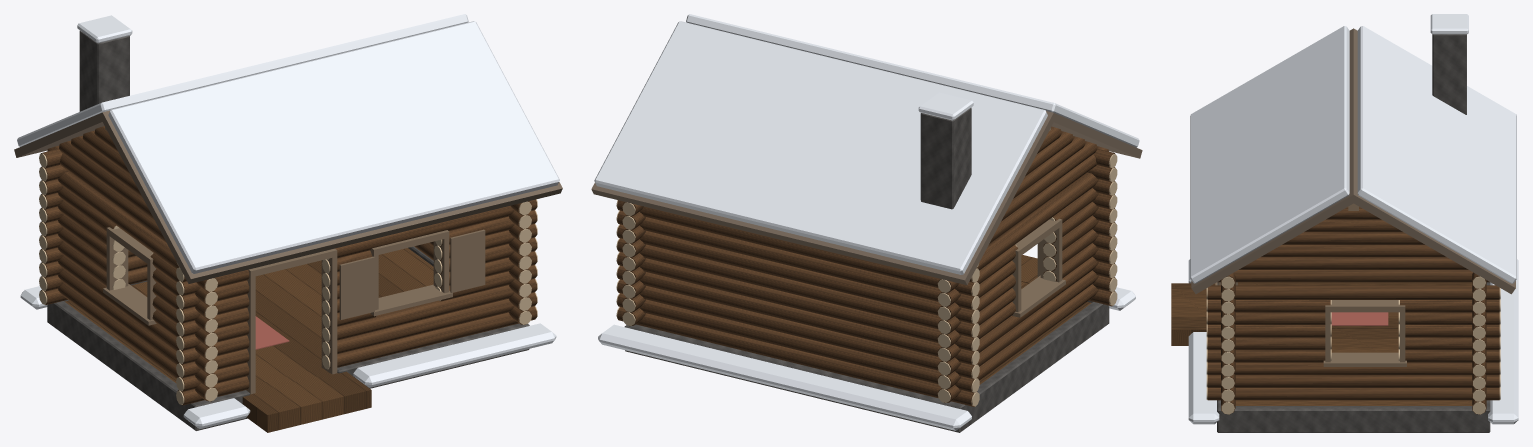
Rendered from cabin.glb.
The picture shows the model from 3 angles, left to right: view 1: azimuth 30°, elevation 25°; view 2: azimuth 150°, elevation 25°; view 3: azimuth 270°, elevation 25°; orthographic projection. The views are drawn at different scales.
Visible parts, largest first — view 1: snow, logs, floor, trim, stone, ends, roof; view 2: snow, logs, stone, roof, ends, trim, floor; view 3: snow, logs, stone, floor, roof, ends, trim.
Part boxes in pixels (left/top/right/bottom): snow: left=17, top=14, right=559, bottom=428; logs: left=40, top=126, right=536, bottom=405; floor: left=65, top=248, right=433, bottom=432; trim: left=103, top=227, right=485, bottom=394; stone: left=47, top=30, right=529, bottom=430; ends: left=39, top=153, right=537, bottom=404; roof: left=14, top=110, right=562, bottom=283; snow: left=594, top=14, right=1139, bottom=430; logs: left=617, top=126, right=1114, bottom=406; stone: left=624, top=108, right=1109, bottom=432; roof: left=591, top=111, right=1142, bottom=285; ends: left=616, top=154, right=1117, bottom=406; trim: left=1012, top=218, right=1065, bottom=317; floor: left=979, top=255, right=1091, bottom=384; snow: left=1188, top=14, right=1518, bottom=424; logs: left=1207, top=206, right=1499, bottom=414; stone: left=1217, top=34, right=1490, bottom=432; floor: left=1171, top=282, right=1472, bottom=405; roof: left=1191, top=28, right=1515, bottom=294; ends: left=1206, top=276, right=1500, bottom=414; trim: left=1215, top=282, right=1406, bottom=366.
Bounding box in the file's own units: 6.8 × 5.31 × 6.
12 materials, 3 textured.
